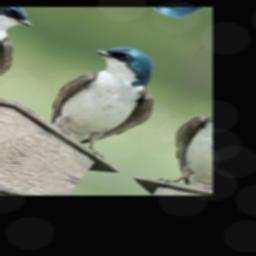Swallow: (28, 33, 185, 165)
